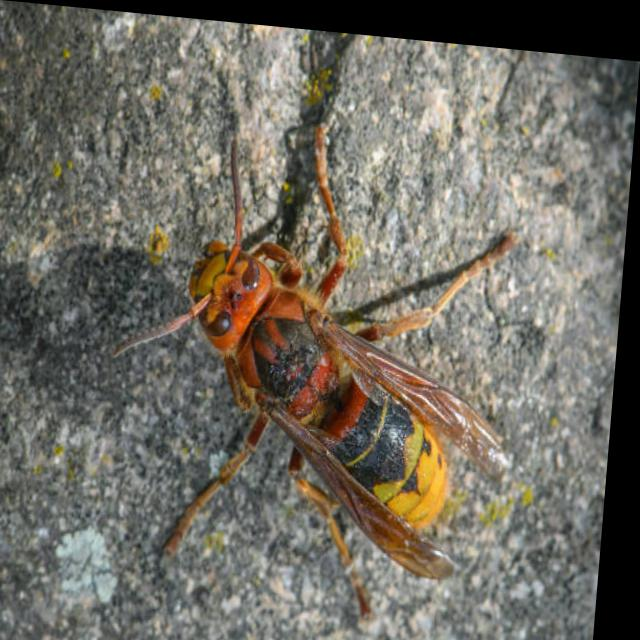Vespa Crabro: (102, 104, 597, 639)
